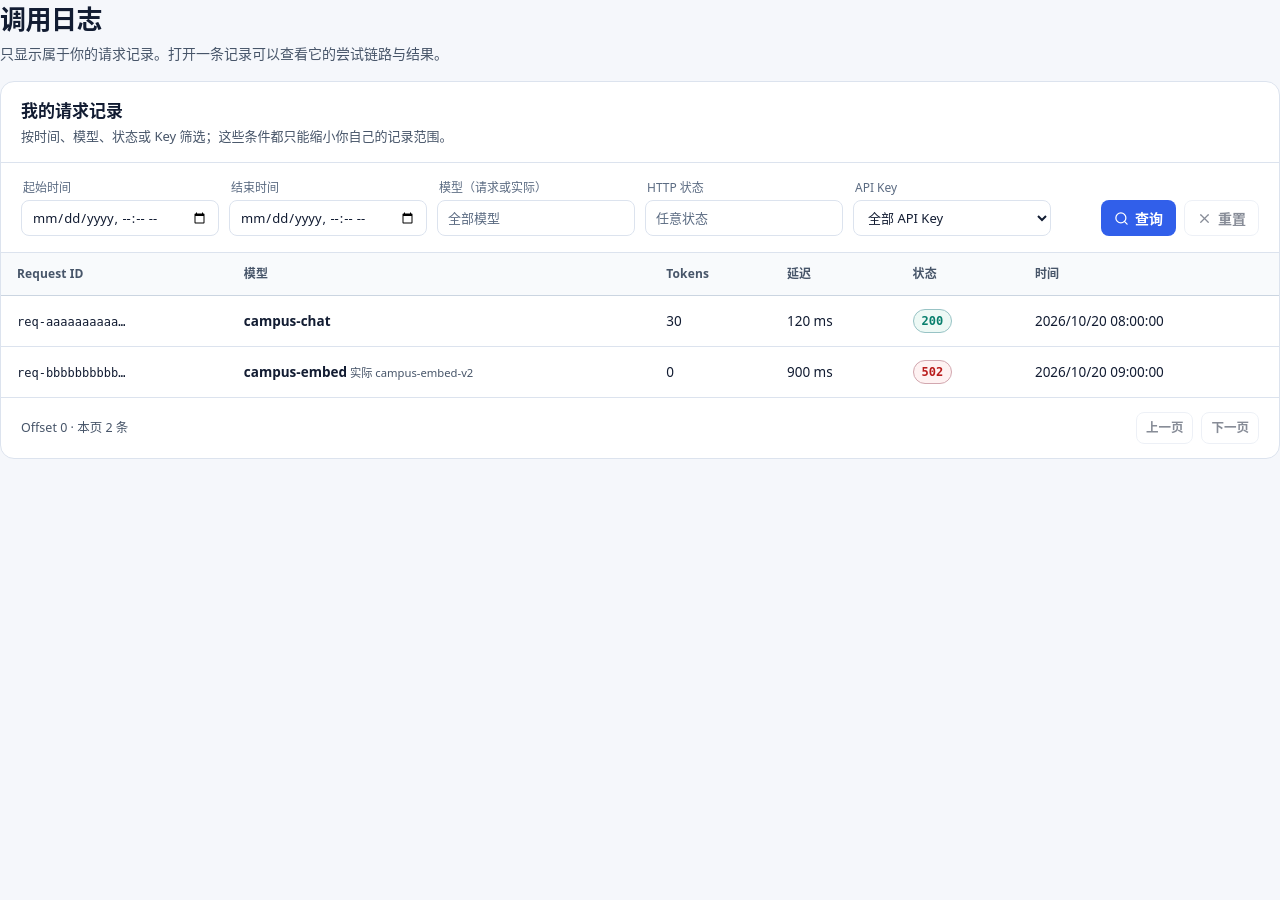
personal console request records › reports a record the account may not see as an error rather than an empty drawer
Click the text "campus-embed" at (295, 372), box [244, 363, 347, 381]
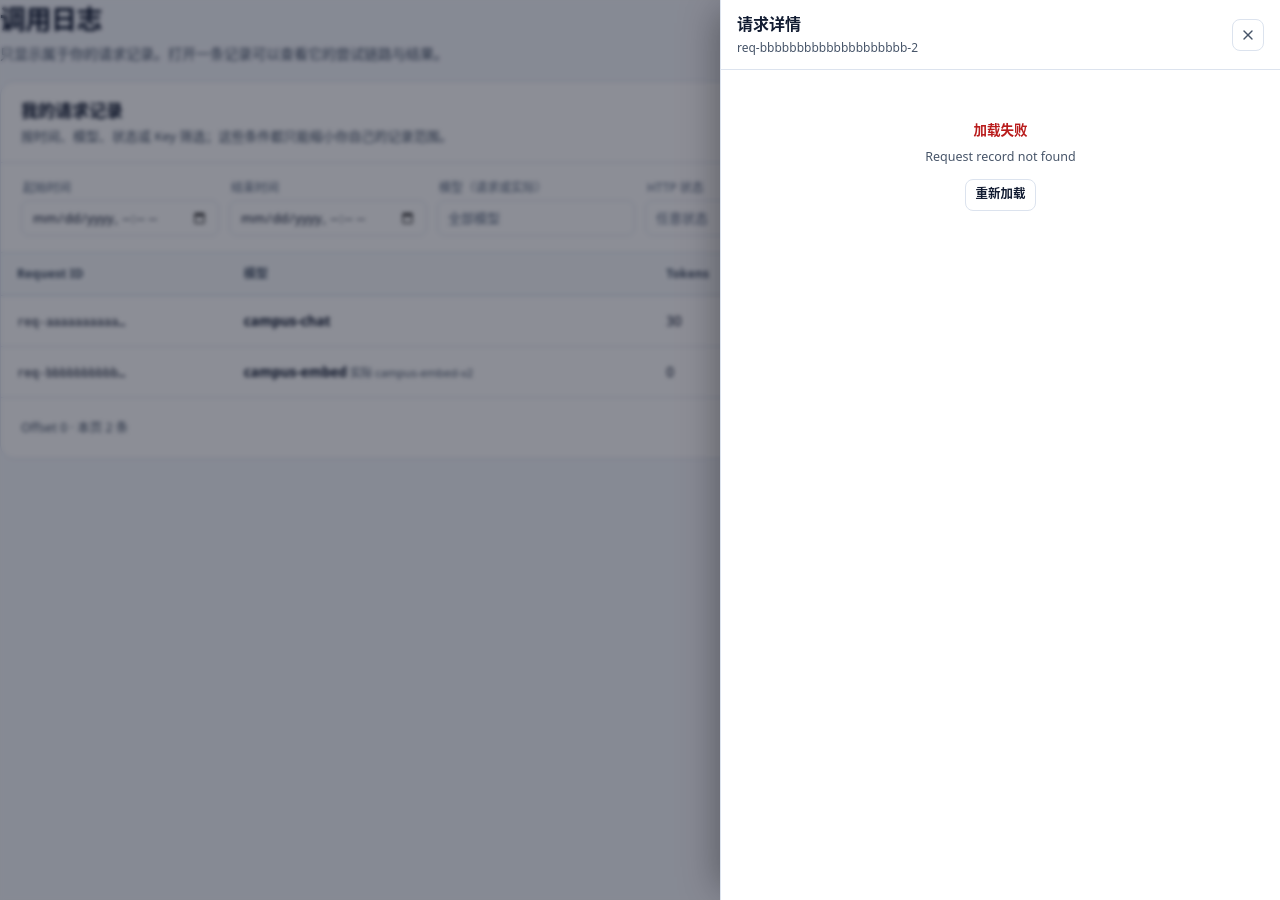
Expected: the text "加载失败" is shown, [974, 120, 1028, 140]
Expected: the text "Request record not found" is shown, [925, 148, 1076, 167]
